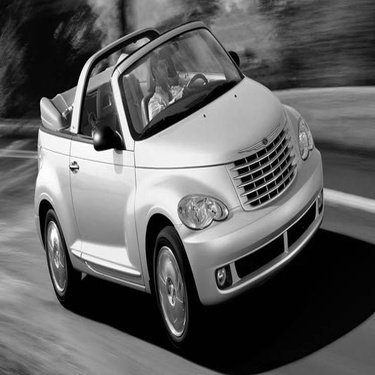car: (32, 15, 332, 350)
